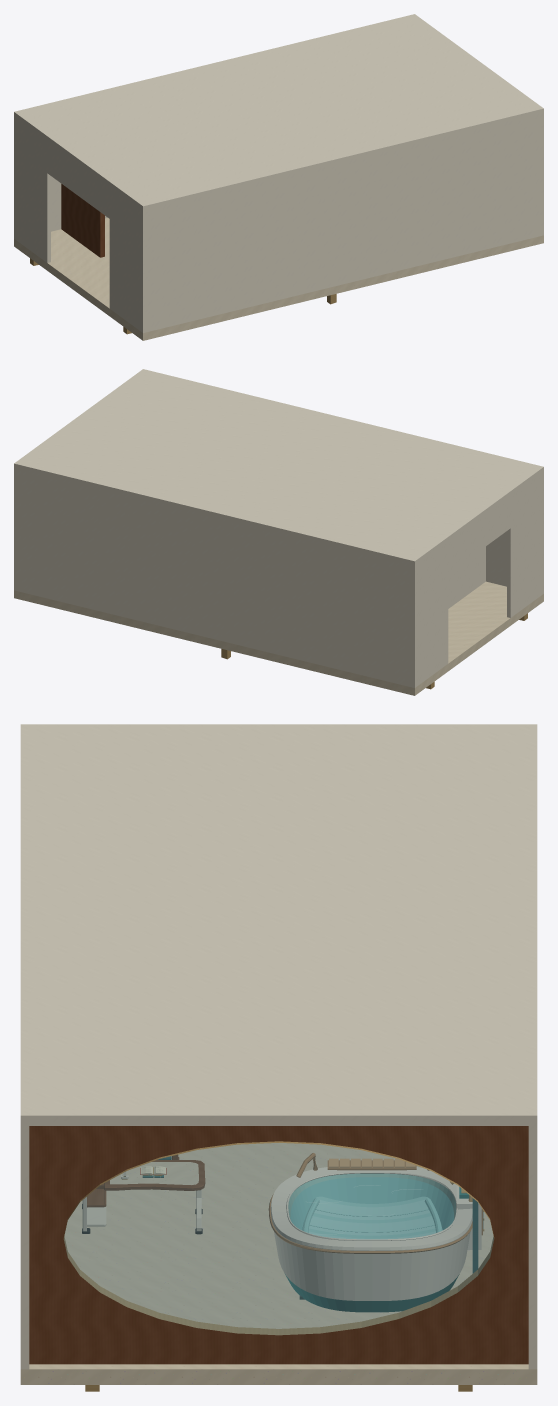
Rendered from StarAtlasSpecialty_467_CanonAdaptation.glb.
The picture shows the model from 3 angles, top to bottom: view 1: azimuth 30°, elevation 25°; view 2: azimuth 150°, elevation 25°; view 3: azimuth 270°, elevation 25°; orthographic projection. The views are drawn at different scales.
Parts seen in each view (by area): view 1: SA467_Ceiling, SA467_SouthSide, SA467_RoomFloor, SA467_EntryShoulderNorth, SA467_EntryShoulderSouth, SA467_EntryHeader, SA467_EntryPrivacyDogleg, SA467_NorthSide; view 2: SA467_Ceiling, SA467_NorthSide, SA467_RoomFloor, SA467_EntryShoulderSouth, SA467_EntryShoulderNorth, SA467_EntryHeader, SA467_WashEntrySide, SA467_SouthSide; view 3: SA467_Ceiling, SA467_OvalAtriumGlass, SA467_OvalWindowReveal, SA467_RoomFloor, SA467_ReservedRestSupport__Hollow continuous basin shell wit, SA467_ReservedRestSupport__WaterSurface_VisualOnly, SA467_ReservedRestSupport__Contoured broad immersed rest sup, SA467_OvalDepthReturn, SA467_NorthSide, SA467_SouthSide, SA467_LibraryStudyEdge__SINGLE_inset_stone_writing_surface, SA467_ReservedRestSupport__Inner pale rim bead (+2 smaller).
Boxes of the visible parts, x1,y1,x2,y2 form: SA467_Ceiling: (14, 14, 543, 211); SA467_SouthSide: (141, 114, 543, 332); SA467_RoomFloor: (14, 218, 543, 340); SA467_EntryShoulderNorth: (16, 119, 50, 262); SA467_EntryShoulderSouth: (109, 187, 140, 331); SA467_EntryHeader: (47, 141, 110, 219); SA467_EntryPrivacyDogleg: (61, 184, 104, 257); SA467_NorthSide: (14, 117, 107, 239); SA467_Ceiling: (14, 369, 543, 566); SA467_NorthSide: (14, 469, 416, 687); SA467_RoomFloor: (14, 581, 543, 695); SA467_EntryShoulderSouth: (507, 474, 541, 617); SA467_EntryShoulderNorth: (417, 543, 448, 686); SA467_EntryHeader: (447, 496, 511, 574); SA467_WashEntrySide: (448, 546, 485, 608); SA467_SouthSide: (486, 472, 543, 594); SA467_Ceiling: (20, 724, 537, 1125); SA467_OvalAtriumGlass: (64, 1143, 493, 1334); SA467_OvalWindowReveal: (29, 1126, 528, 1364); SA467_RoomFloor: (20, 1143, 537, 1384); SA467_ReservedRestSupport__Hollow continuous basin shell wit: (270, 1167, 472, 1312); SA467_ReservedRestSupport__WaterSurface_VisualOnly: (291, 1178, 453, 1238); SA467_ReservedRestSupport__Contoured broad immersed rest sup: (309, 1197, 435, 1238); SA467_OvalDepthReturn: (63, 1141, 494, 1335); SA467_NorthSide: (528, 1126, 537, 1369); SA467_SouthSide: (20, 1126, 29, 1369); SA467_LibraryStudyEdge__SINGLE_inset_stone_writing_surface: (110, 1162, 198, 1184); SA467_ReservedRestSupport__Inner pale rim bead: (286, 1171, 457, 1240).
Size of the model in its own units: 12.9 by 4.91 by 7.2.
Materials: 61 (43 with a texture image).
